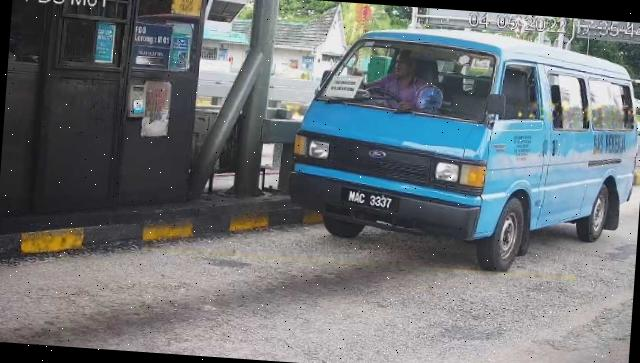License_Plate: (339, 186, 403, 216)
van: (285, 19, 640, 280)
